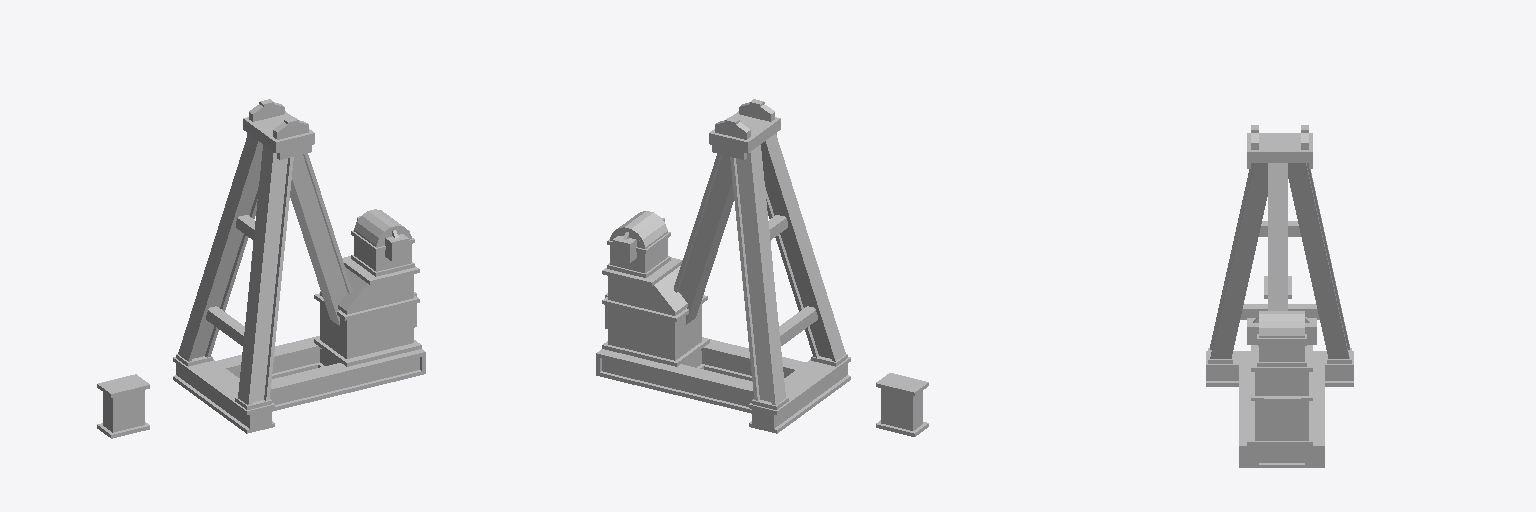
Rendered from pumpjack_base.obj.
3 views of the same model, side by side, from view 1: azimuth 30°, elevation 25°; view 2: azimuth 150°, elevation 25°; view 3: azimuth 270°, elevation 25° (orthographic).
Visible parts, largest first — view 1: cube.245, cube.240, cube.234, cube.239, cube.236, cube.242, cube.233, cube.237, cube.244, cube.274, cube.267, cube.241 (+17 smaller); view 2: cube.245, cube.234, cube.240, cube.233, cube.236, cube.278, cube.239, cube.280, cube.237, cube.274, cube.267, cube.235 (+17 smaller); view 3: cube.235, cube.241, cube.238, cube.245, cube.275, cube.285, cube.249, cube.280, cube.251, cube.244, cube.270, cube.246 (+4 smaller).
Part boxes in pixels (bbox=[...]): cube.245: bbox=[320, 292, 413, 365]; cube.240: bbox=[238, 145, 276, 404]; cube.234: bbox=[178, 134, 260, 361]; cube.239: bbox=[252, 158, 287, 402]; cube.236: bbox=[293, 155, 347, 305]; cube.242: bbox=[270, 357, 419, 404]; cube.233: bbox=[193, 143, 262, 358]; cube.237: bbox=[290, 170, 339, 325]; cube.244: bbox=[270, 349, 425, 392]; cube.274: bbox=[173, 357, 274, 414]; cube.267: bbox=[103, 390, 144, 432]; cube.241: bbox=[264, 157, 293, 400]; cube.245: bbox=[608, 296, 701, 367]; cube.234: bbox=[747, 145, 785, 404]; cube.240: bbox=[763, 134, 845, 361]; cube.233: bbox=[736, 158, 771, 402]; cube.236: bbox=[678, 155, 731, 303]; cube.278: bbox=[602, 359, 753, 406]; cube.239: bbox=[761, 143, 830, 358]; cube.280: bbox=[596, 349, 753, 394]; cube.237: bbox=[686, 172, 733, 324]; cube.274: bbox=[749, 357, 850, 414]; cube.267: bbox=[881, 388, 922, 430]; cube.235: bbox=[730, 157, 759, 400]; cube.235: bbox=[1288, 163, 1349, 358]; cube.241: bbox=[1210, 163, 1267, 358]; cube.238: bbox=[1268, 163, 1287, 310]; cube.245: bbox=[1255, 392, 1308, 462]; cube.275: bbox=[1247, 133, 1312, 162]; cube.285: bbox=[1264, 396, 1300, 432]; cube.249: bbox=[1255, 372, 1308, 391]; cube.280: bbox=[1305, 365, 1324, 449]; cube.251: bbox=[1259, 336, 1304, 361]; cube.244: bbox=[1239, 365, 1258, 449]; cube.270: bbox=[1206, 368, 1353, 380]; cube.246: bbox=[1247, 406, 1312, 445].
Bounding box in the file's own units: 5.38 × 4.69 × 2.25.